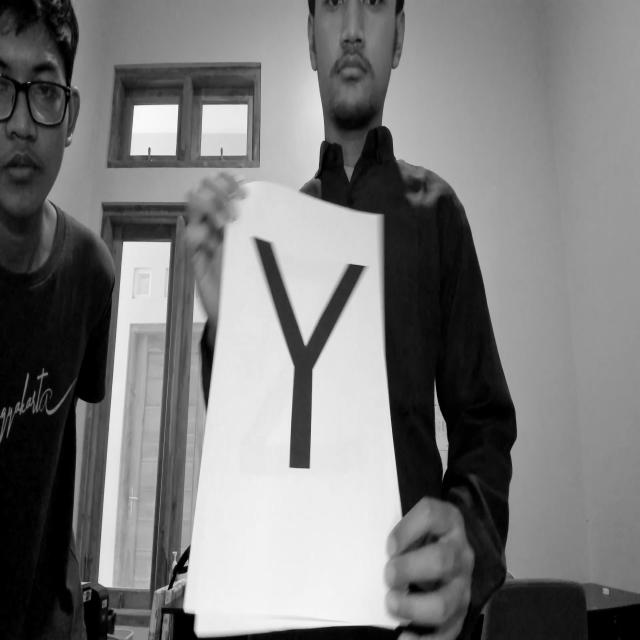y: (247, 221, 373, 487)
